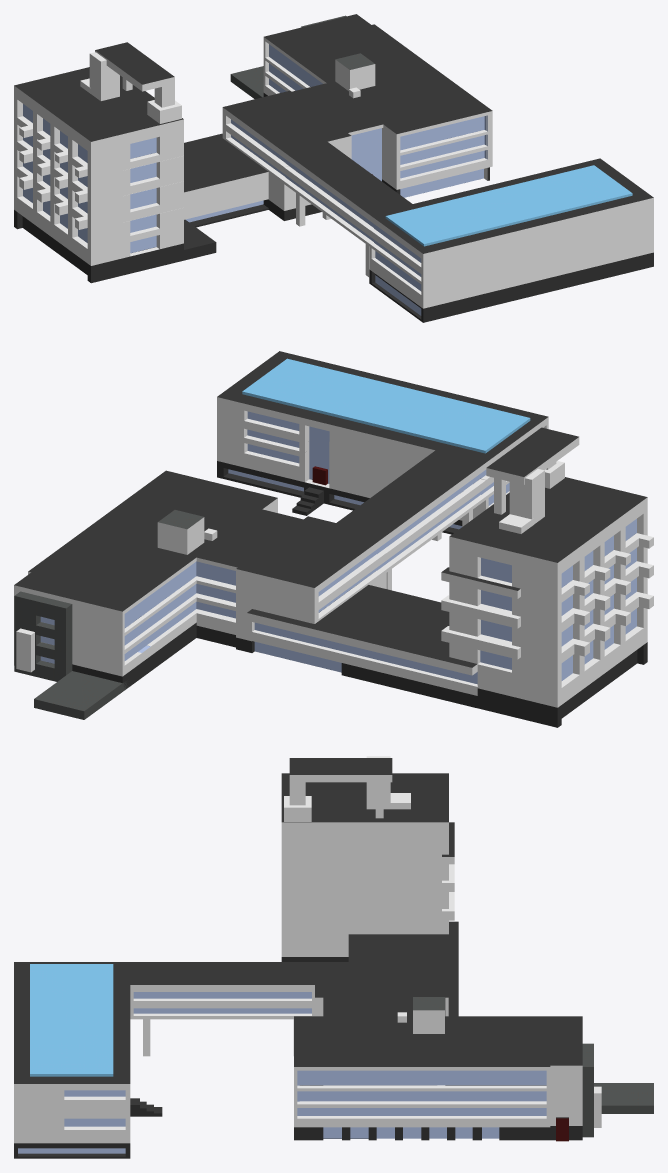
File: bauhausAR-transformed.glb
3 views of the same model, one above another, from view 1: azimuth 30°, elevation 25°; view 2: azimuth 150°, elevation 25°; view 3: azimuth 270°, elevation 25° (orthographic). The views are drawn at different scales.
Parts seen in each view (by area): view 1: Cube.024; view 2: Cube.024; view 3: Cube.024.
Part boxes in pixels (box(x1,y1,x2,y2)): Cube.024: box(14, 14, 653, 322); Cube.024: box(14, 351, 653, 727); Cube.024: box(14, 756, 653, 1158).
Bounding box in the file's own units: 13.6 × 5.29 × 15.53.
Materials: 2 (2 with a texture image).
